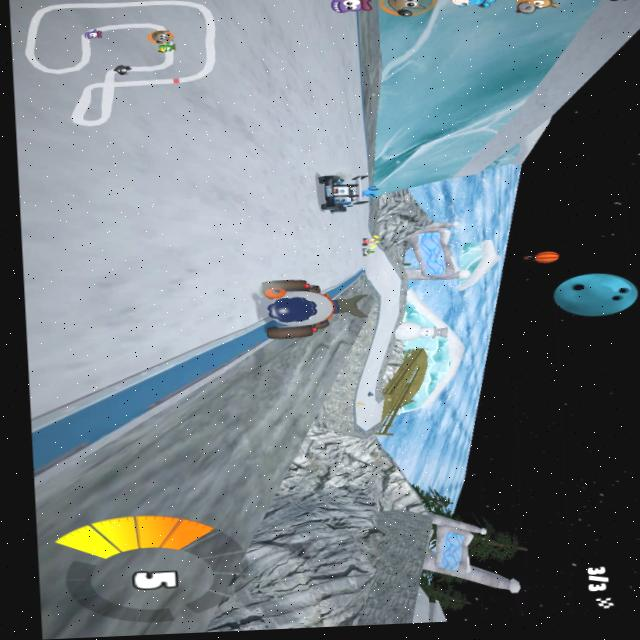enemy_kart: (317, 176, 380, 215), (367, 390, 375, 400)
player_kart: (264, 266, 361, 339)
track: (12, 0, 364, 184), (21, 170, 316, 281), (26, 274, 264, 348), (27, 345, 162, 405), (372, 300, 399, 352), (321, 213, 378, 237), (315, 239, 357, 267), (359, 348, 386, 391), (379, 268, 404, 306), (360, 400, 391, 425), (371, 258, 391, 285)
